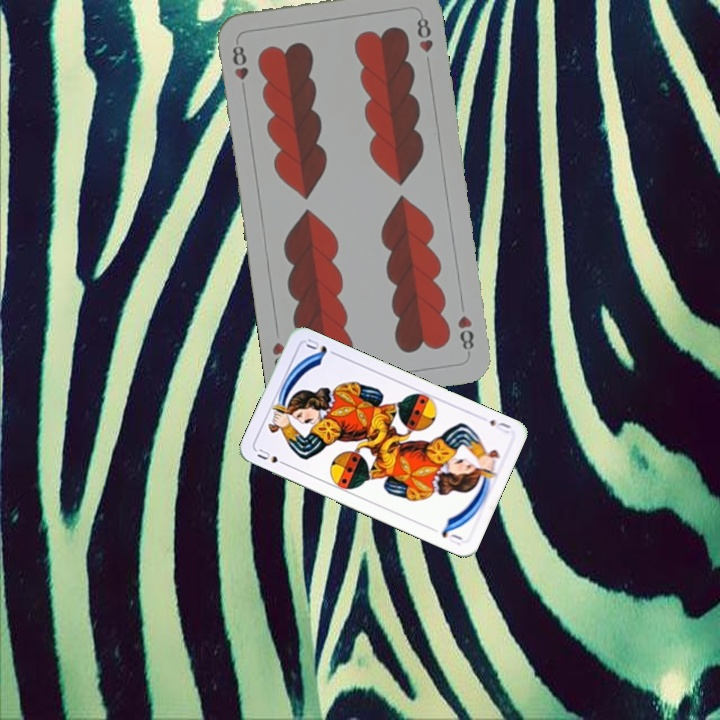H8: (228, 41, 251, 96), (453, 311, 477, 357)
SU: (253, 444, 291, 469), (486, 415, 514, 436)
